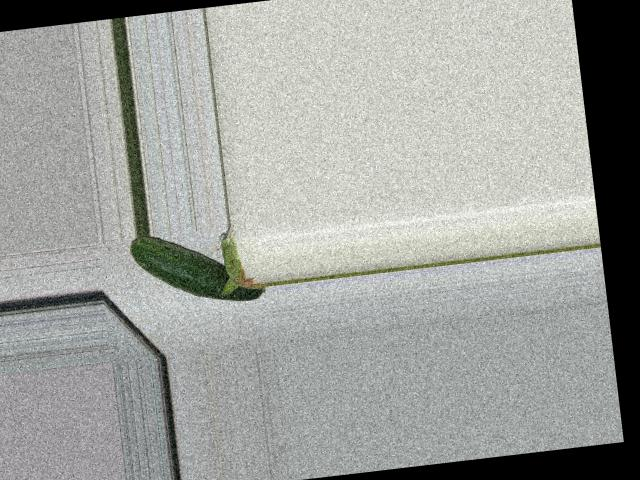cucumber: (128, 223, 266, 312)
